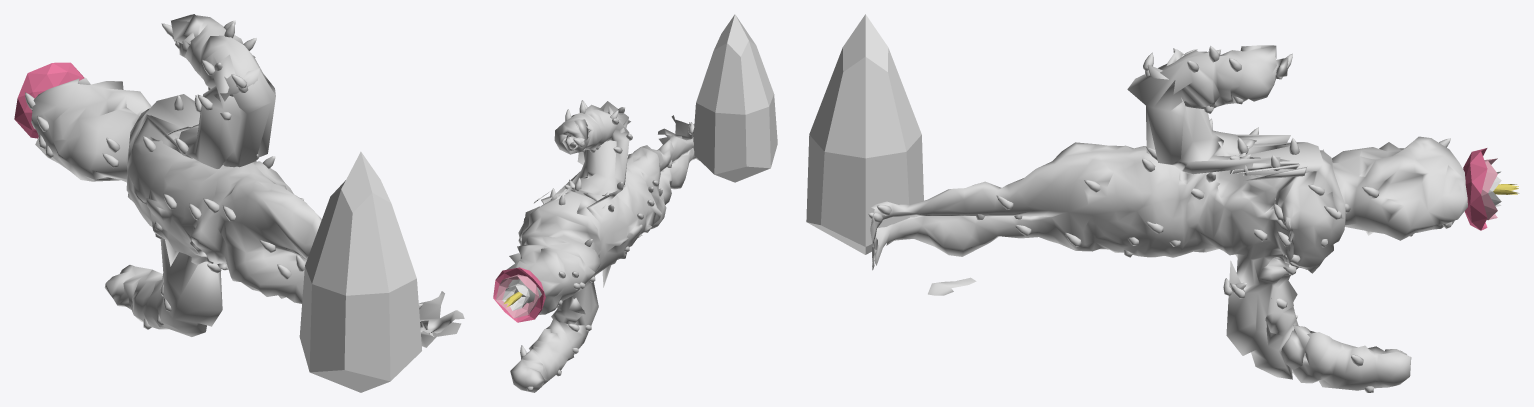
The model's file is Chatus.fbx.
3 renders of one model, left to right at view 1: azimuth 30°, elevation 25°; view 2: azimuth 150°, elevation 25°; view 3: azimuth 270°, elevation 25°, orthographic. The views are drawn at different scales.
Visible parts, largest first — view 1: 3DModel_LowPoly, Cube, Icosphere.001; view 2: 3DModel_LowPoly, Cube, Icosphere.001, Icosphere, Icosphere.002; view 3: 3DModel_LowPoly, Cube, Icosphere.001, Icosphere.
Boxes of the visible parts, left/top/right/bottom form: 3DModel_LowPoly: left=25, top=14, right=464, bottom=347; Cube: left=299, top=151, right=421, bottom=392; Icosphere.001: left=14, top=62, right=84, bottom=138; 3DModel_LowPoly: left=507, top=100, right=699, bottom=392; Cube: left=693, top=14, right=777, bottom=182; Icosphere.001: left=493, top=267, right=545, bottom=322; Icosphere: left=496, top=274, right=539, bottom=318; Icosphere.002: left=502, top=283, right=529, bottom=310; 3DModel_LowPoly: left=868, top=45, right=1467, bottom=392; Cube: left=806, top=14, right=923, bottom=254; Icosphere.001: left=1463, top=148, right=1487, bottom=230; Icosphere: left=1481, top=158, right=1497, bottom=220.
Bounding box in the file's own units: 357 × 776 × 1395.
